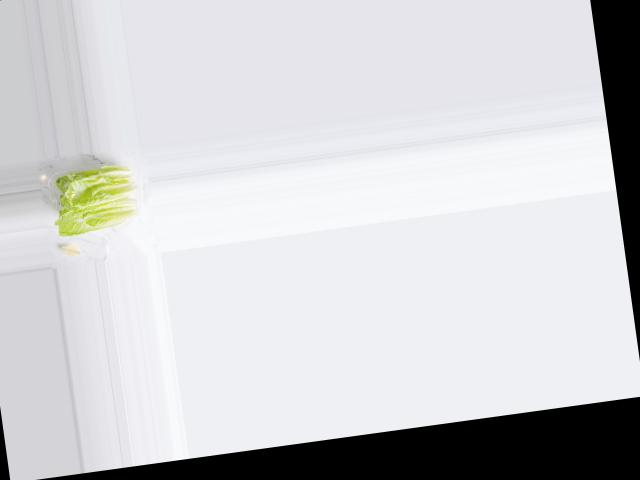lettuce: (46, 159, 143, 241)
